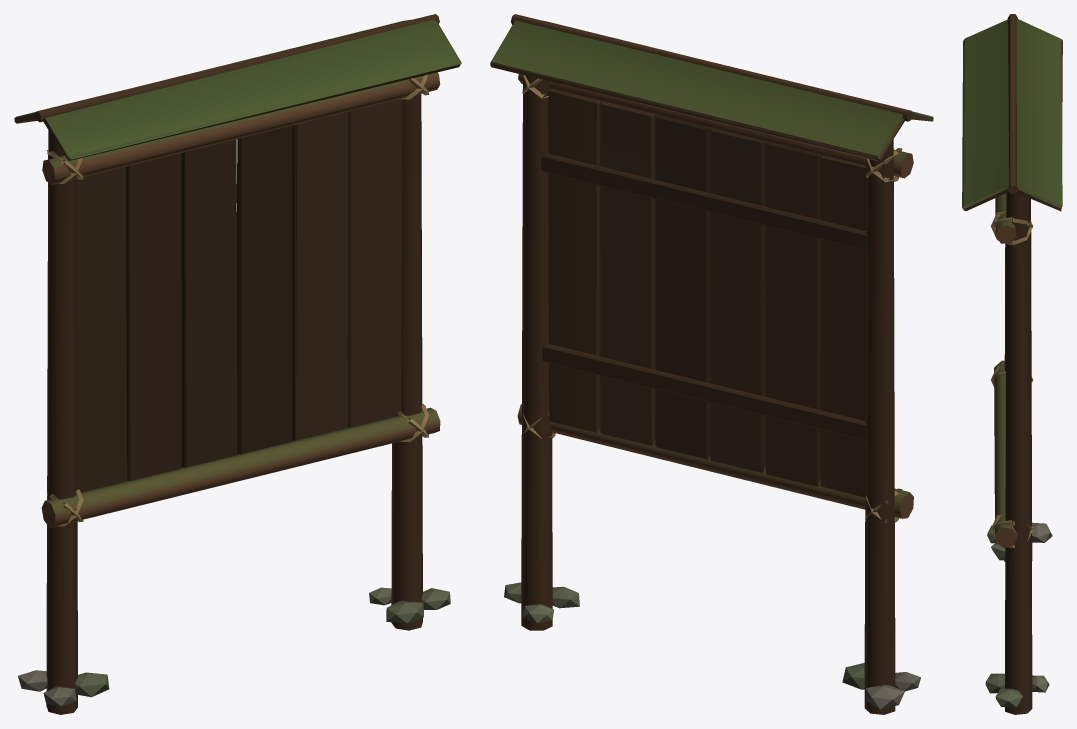
The model's file is card-frame.glb.
3 renders of one model, left to right at view 1: azimuth 30°, elevation 25°; view 2: azimuth 150°, elevation 25°; view 3: azimuth 270°, elevation 25°, orthographic. The views are drawn at different scales.
Parts seen in each view (by area): view 1: card-frame; view 2: card-frame; view 3: card-frame.
Part boxes in pixels (x1,y1,x2,y2): card-frame: [14, 14, 461, 714]; card-frame: [490, 14, 933, 714]; card-frame: [962, 14, 1062, 714].
Bounding box in the file's own units: 2.48 × 3.48 × 0.5946.
